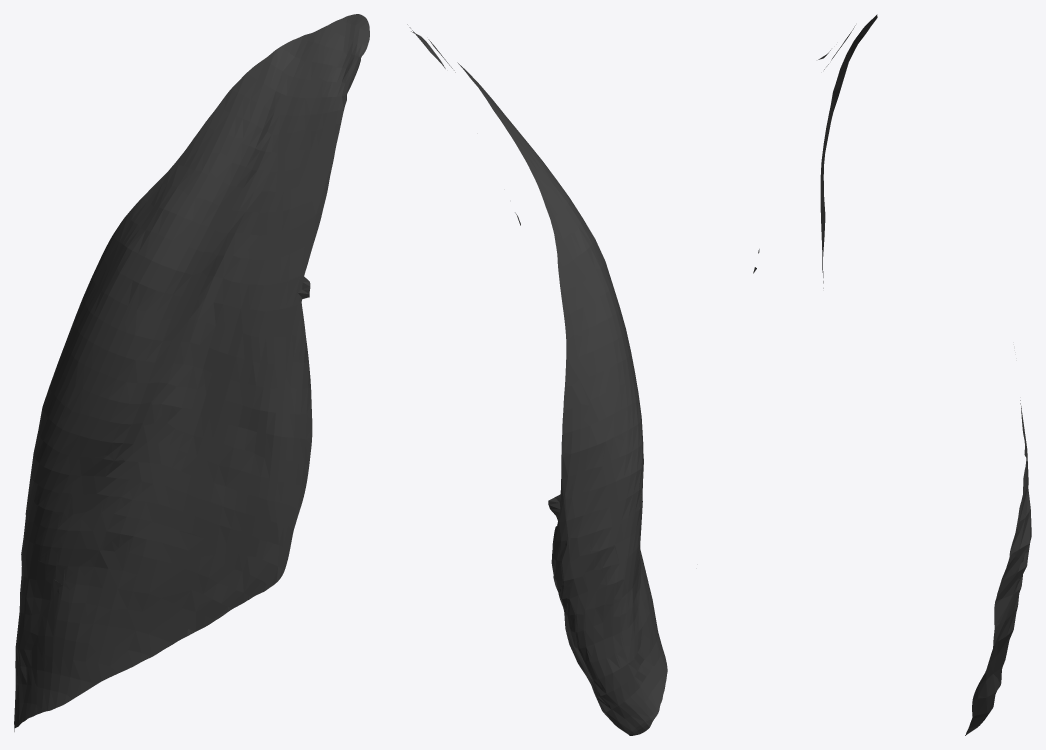
The model's file is Supraspinatus.glb.
3 renders of one model, left to right at view 1: azimuth 30°, elevation 25°; view 2: azimuth 150°, elevation 25°; view 3: azimuth 270°, elevation 25°, orthographic. The views are drawn at different scales.
Visible parts, largest first — view 1: Supraspinatus; view 2: Supraspinatus; view 3: Supraspinatus.
Part boxes in pixels (x1,y1,x2,y2): Supraspinatus: (14, 14, 369, 731); Supraspinatus: (407, 24, 667, 735); Supraspinatus: (753, 14, 1031, 735).
Bounding box in the file's own units: 0.1022 × 0.2097 × 0.0709.
Materials: 1 (1 with a texture image).
